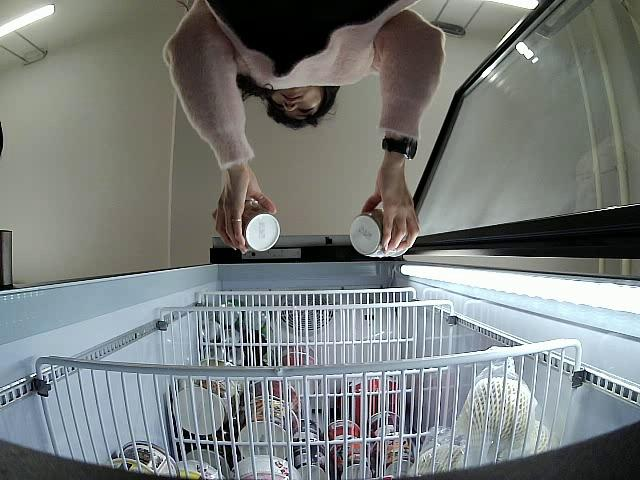00_hand: (362, 159, 421, 256), (213, 165, 277, 252)
04_chapagetti_S: (347, 210, 408, 258), (237, 197, 280, 251)
